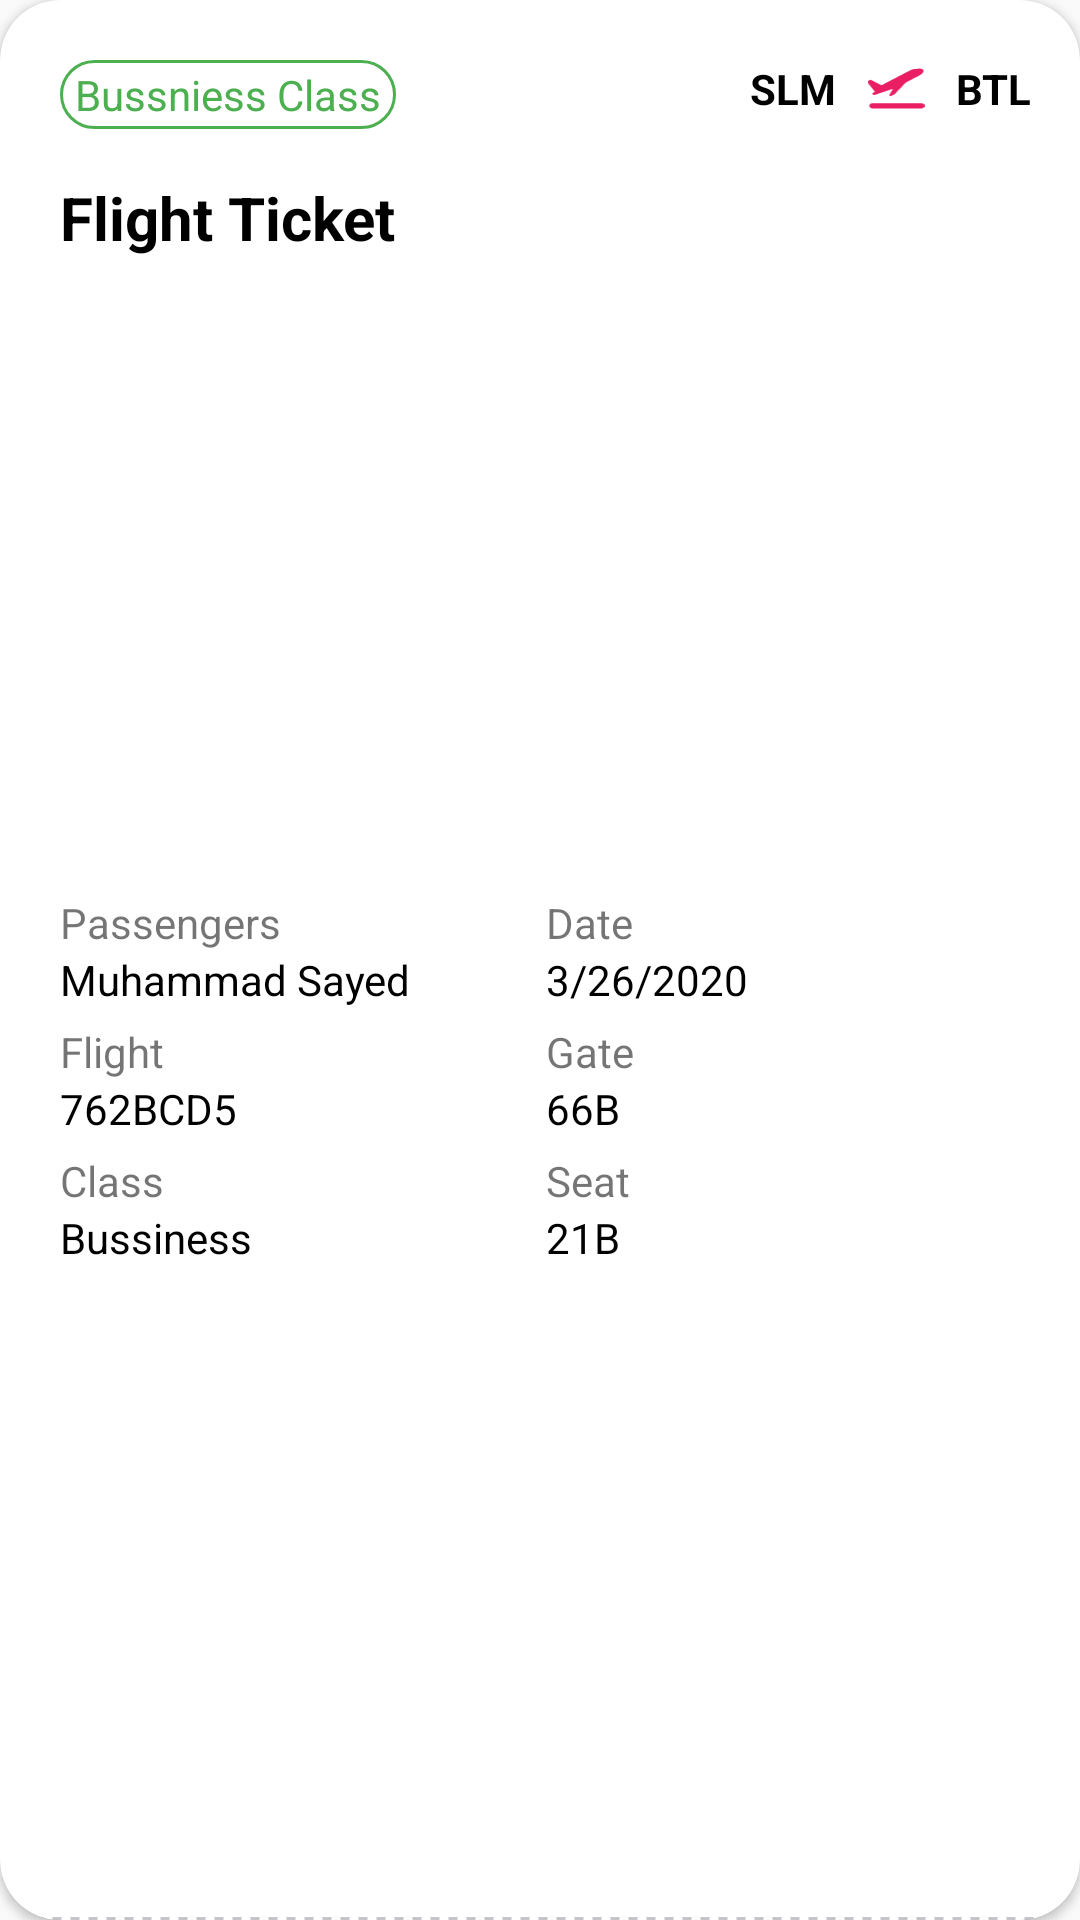

Icon bounding boxes for this 1080 x 1920 phone screenshot, format bbox(x1, y1, x2, y2):
plane: bbox(868, 68, 925, 109)
